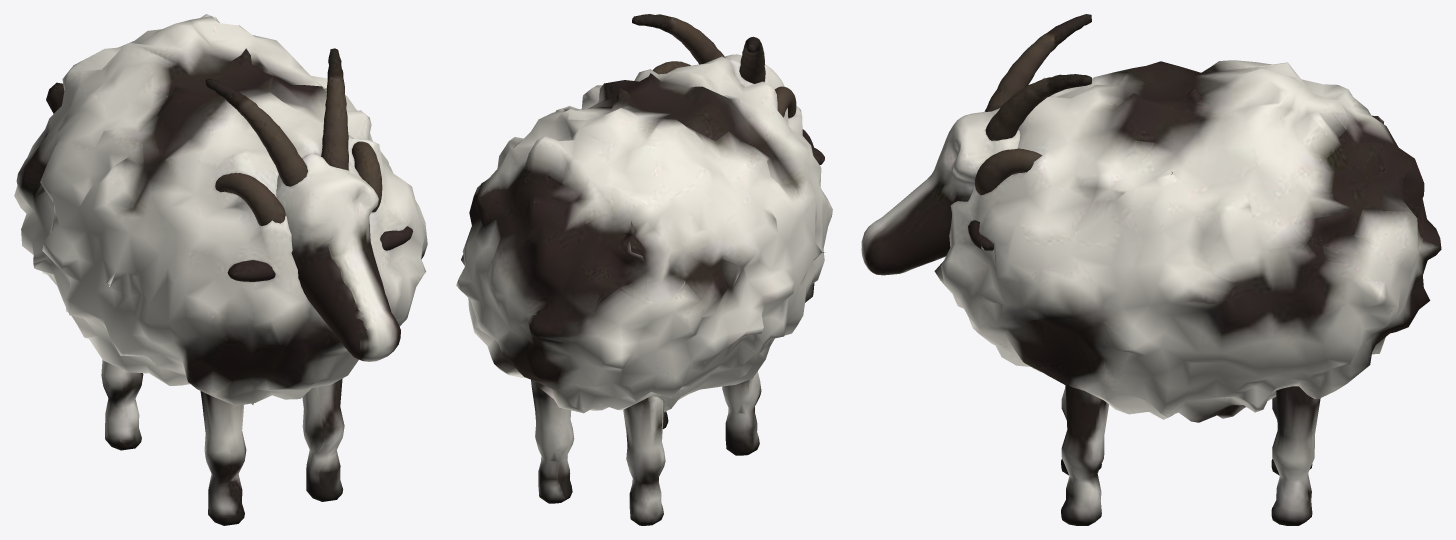
Rendered from animal_jacob_sheep.glb.
3 views of the same model, side by side, from view 1: azimuth 30°, elevation 25°; view 2: azimuth 150°, elevation 25°; view 3: azimuth 270°, elevation 25° (orthographic). The views are drawn at different scales.
Parts seen in each view (by area): view 1: animal_jacob_sheep, head, leg0, leg1, leg2; view 2: animal_jacob_sheep, leg2, head, leg3, leg0; view 3: animal_jacob_sheep, head, leg3, leg1.
Part boxes in pixels (x1,y1,x2,y2): animal_jacob_sheep: [14, 14, 427, 405]; head: [205, 48, 412, 361]; leg0: [200, 391, 246, 525]; leg1: [302, 378, 344, 501]; leg2: [101, 359, 143, 450]; animal_jacob_sheep: [456, 56, 832, 413]; leg2: [623, 396, 665, 525]; head: [632, 14, 824, 164]; leg3: [531, 379, 574, 503]; leg0: [722, 371, 761, 455]; animal_jacob_sheep: [934, 60, 1441, 422]; head: [861, 14, 1091, 275]; leg3: [1271, 386, 1320, 525]; leg1: [1061, 385, 1108, 525].
Bounding box in the file's own units: 0.3617 × 0.4768 × 0.5511.
Materials: 1 (1 with a texture image).
